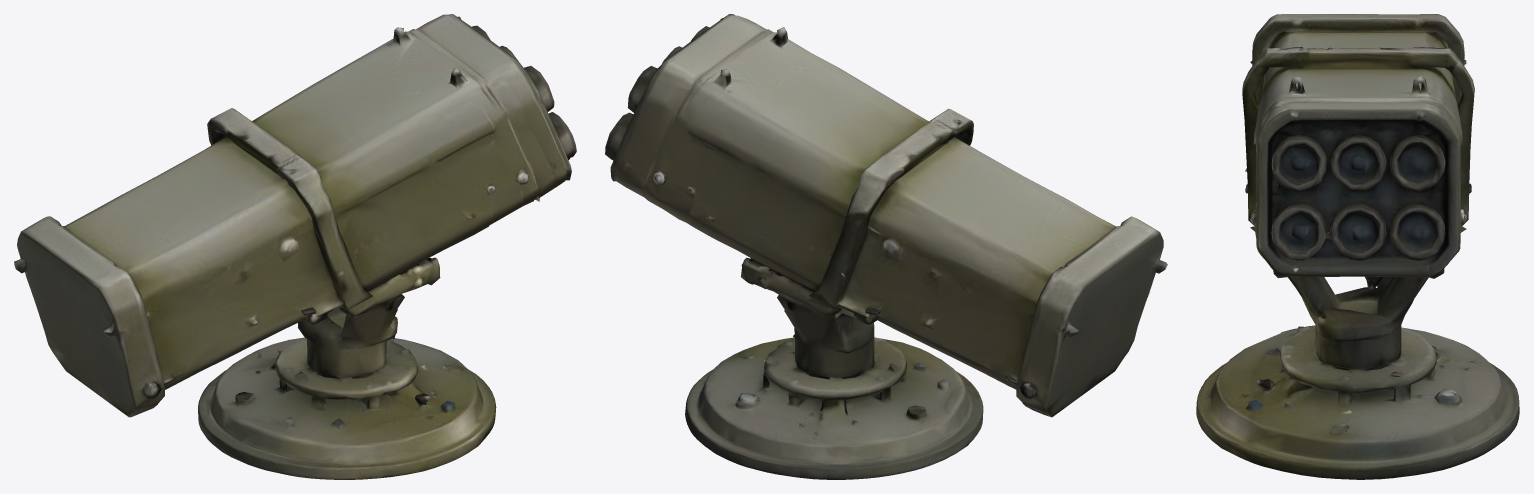
Rendered from tr2_rocket.glb.
The picture shows the model from 3 angles, left to right: view 1: azimuth 30°, elevation 25°; view 2: azimuth 150°, elevation 25°; view 3: azimuth 270°, elevation 25°; orthographic projection. The views are drawn at different scales.
Parts seen in each view (by area): view 1: tripo_node_e55c0de9-3d16-4a99-abab-c309ce41f2e8; view 2: tripo_node_e55c0de9-3d16-4a99-abab-c309ce41f2e8; view 3: tripo_node_e55c0de9-3d16-4a99-abab-c309ce41f2e8.
Part boxes in pixels (x1=…): tripo_node_e55c0de9-3d16-4a99-abab-c309ce41f2e8: x1=14, y1=14, x2=576, y2=479; tripo_node_e55c0de9-3d16-4a99-abab-c309ce41f2e8: x1=605, y1=14, x2=1167, y2=479; tripo_node_e55c0de9-3d16-4a99-abab-c309ce41f2e8: x1=1196, y1=14, x2=1519, y2=479.
Bounding box in the file's own units: 0.9808 × 0.6788 × 0.5235.
Materials: 1 (1 with a texture image).
